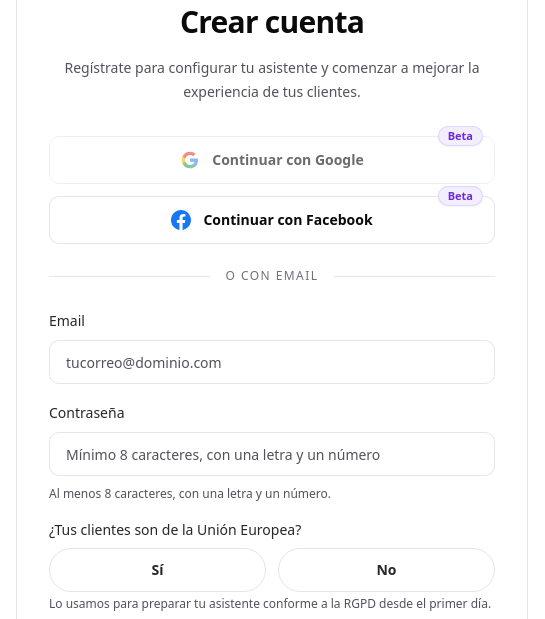
Test: RegisterPage › sin pase en la respuesta (backend anterior o Redis caído) explica que entre con su contraseña
Step 1. Type "ana@example.com" into the field with placeholder "tucorreo@dominio.com" → x=272, y=362, box [49, 340, 495, 384]
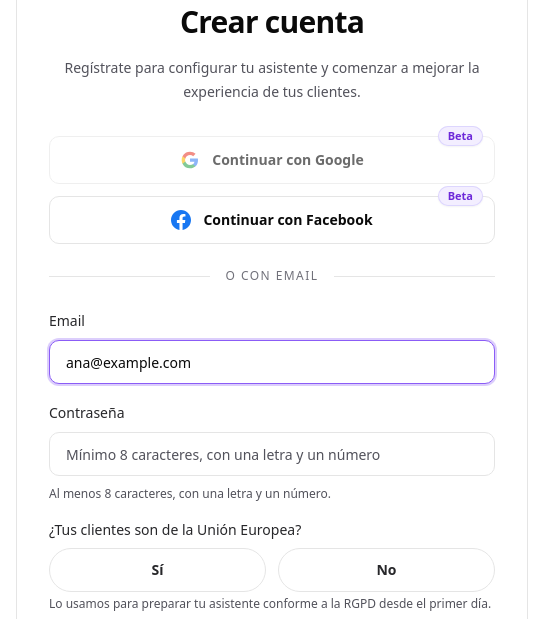
Step 2. Type "password123" into the password field with placeholder "Mínimo 8 caracteres, con una letra y un número" → x=272, y=454, box [49, 432, 495, 476]
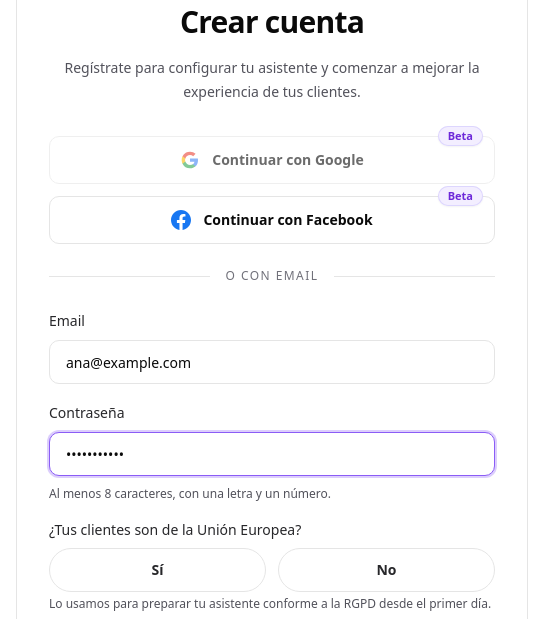
Step 3. Click the radio button labelled "Sí" → x=158, y=570, box [49, 548, 266, 592]
(page scrolled)
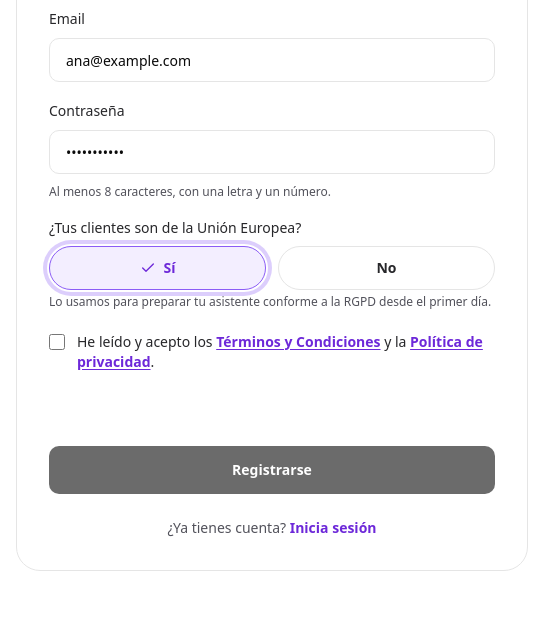
Step 4. Click the checkbox → x=57, y=342, box [49, 334, 65, 350]
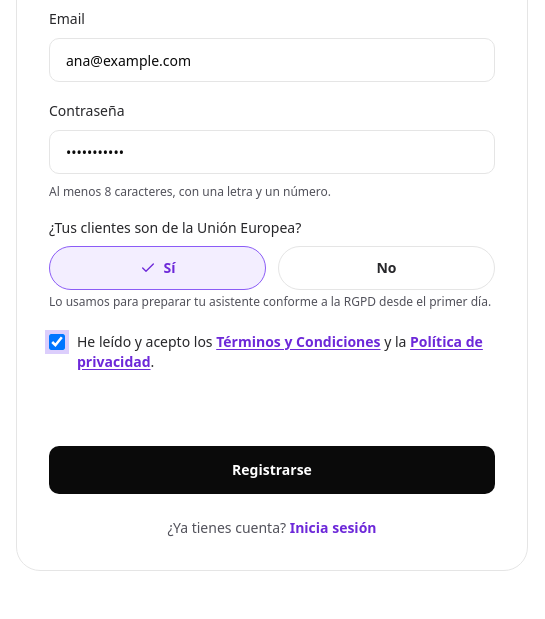
Step 5. Click the button "Registrarse" → x=272, y=470, box [49, 446, 495, 494]
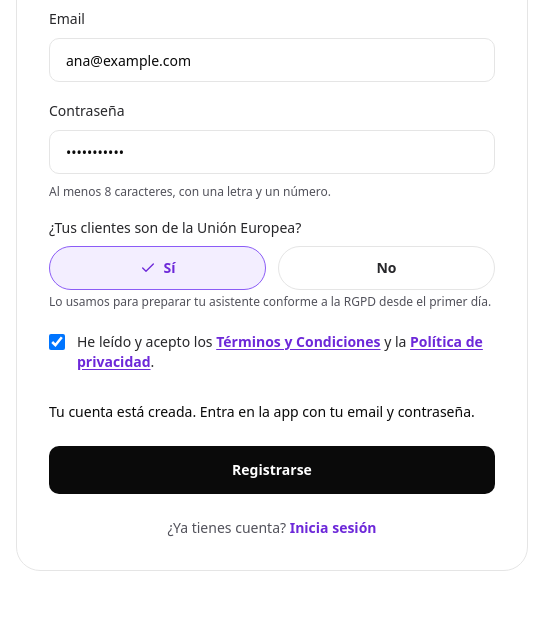
Expected: the text "Tu cuenta está creada. Entra en la app con tu email y contraseña." is shown, [49, 402, 495, 422]
